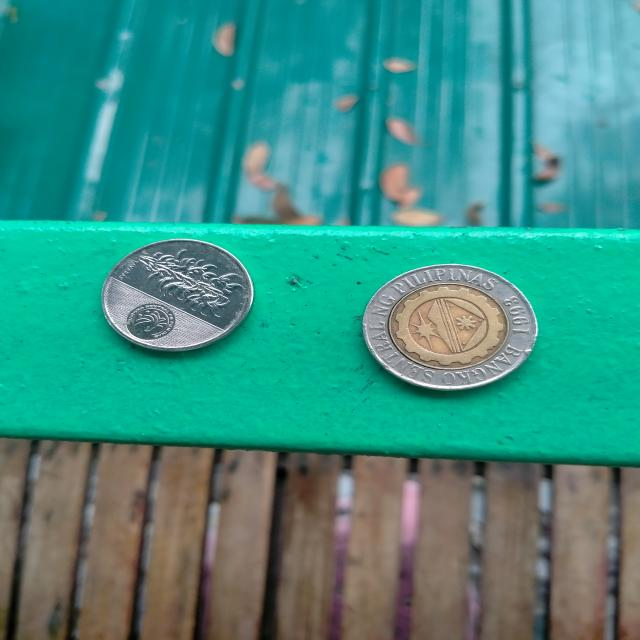10_Old_Back: (361, 259, 539, 391)
5_New_Back: (133, 248, 237, 315)
